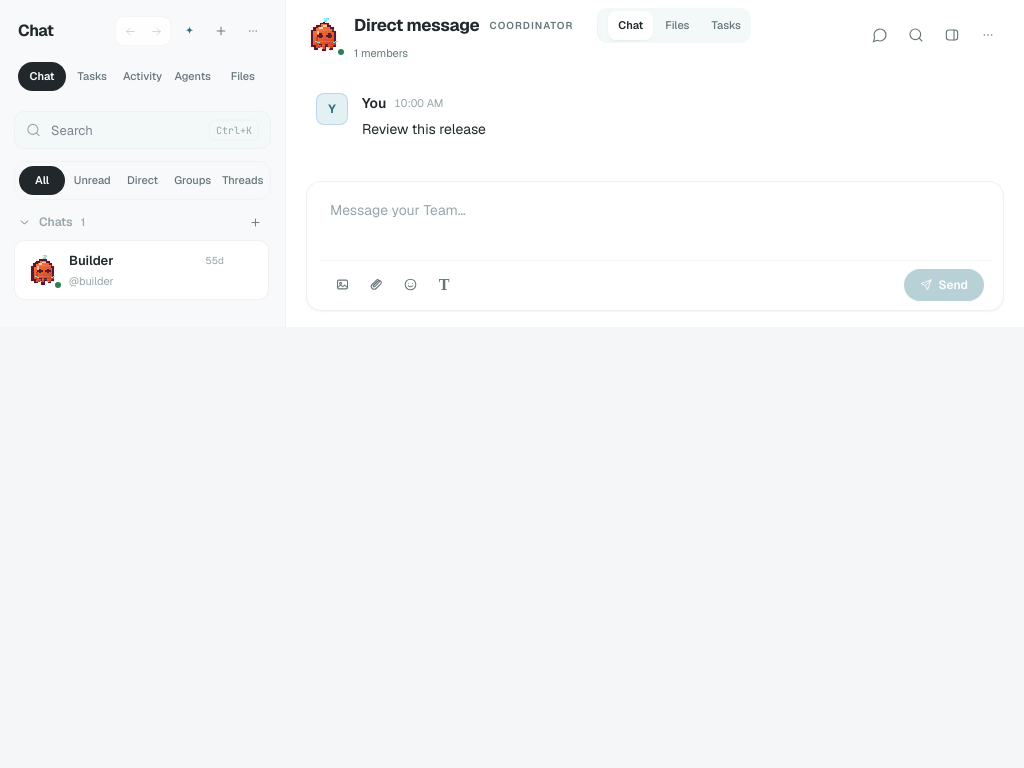
TeamSurface message actions › starts a direct chat when one agent is selected
Expected: the text "Review this release" is shown, [362, 120, 486, 138]
Click the 1st button named "New conversation" at (221, 31), box [207, 17, 235, 45]
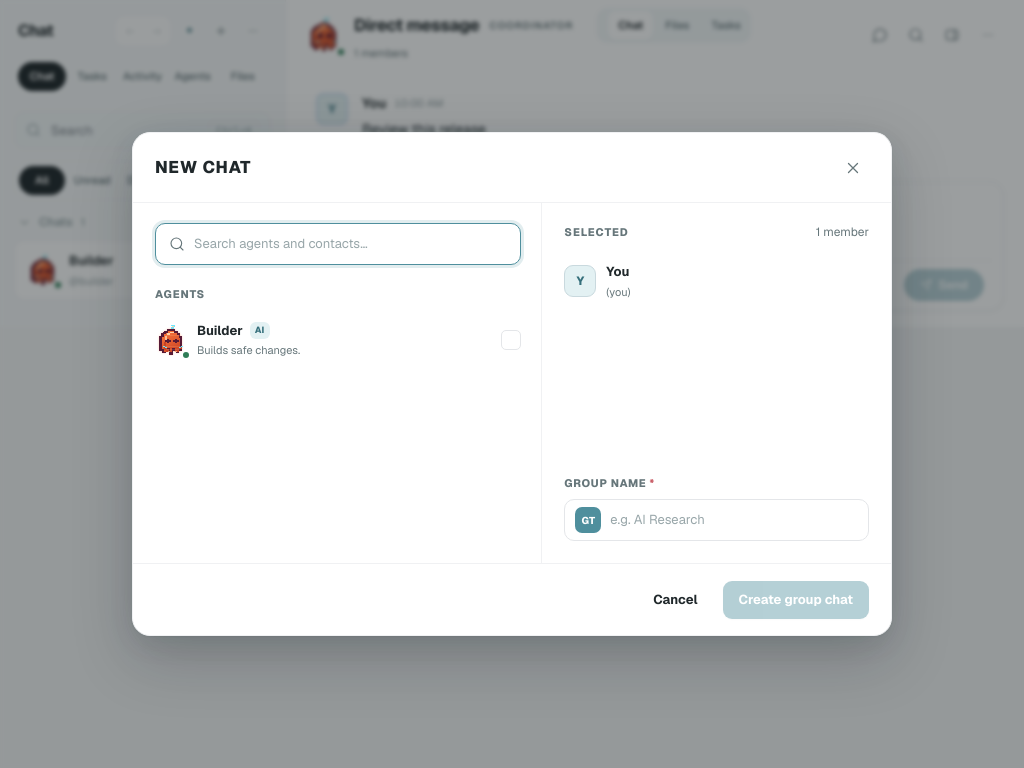
Click the checkbox labelled "Builder" at (171, 340), box [147, 312, 529, 366]
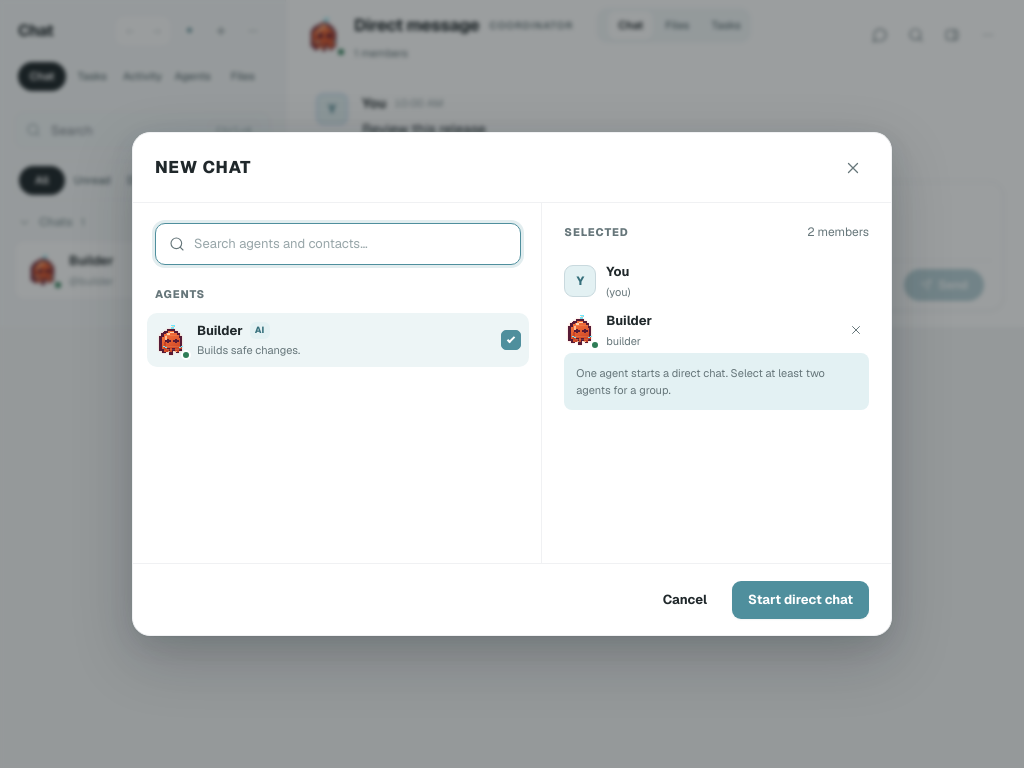
Expected: the text "One agent starts a direct chat. Select at least two agents for a group." is shown, [564, 353, 869, 410]
Click the button "Start direct chat" at (801, 600), box [732, 580, 869, 618]
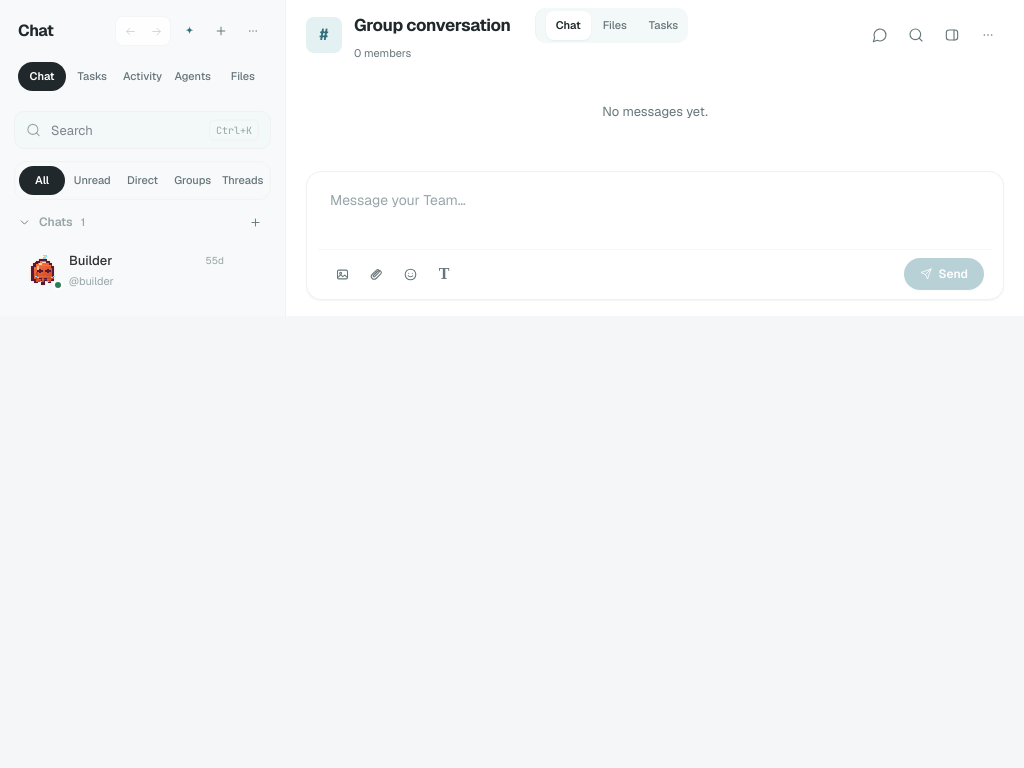
Expected: the heading "New chat" is gone
